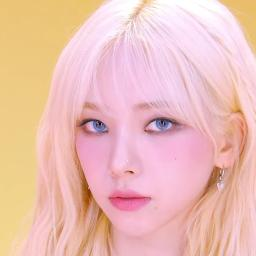face: (84, 62, 200, 226)
